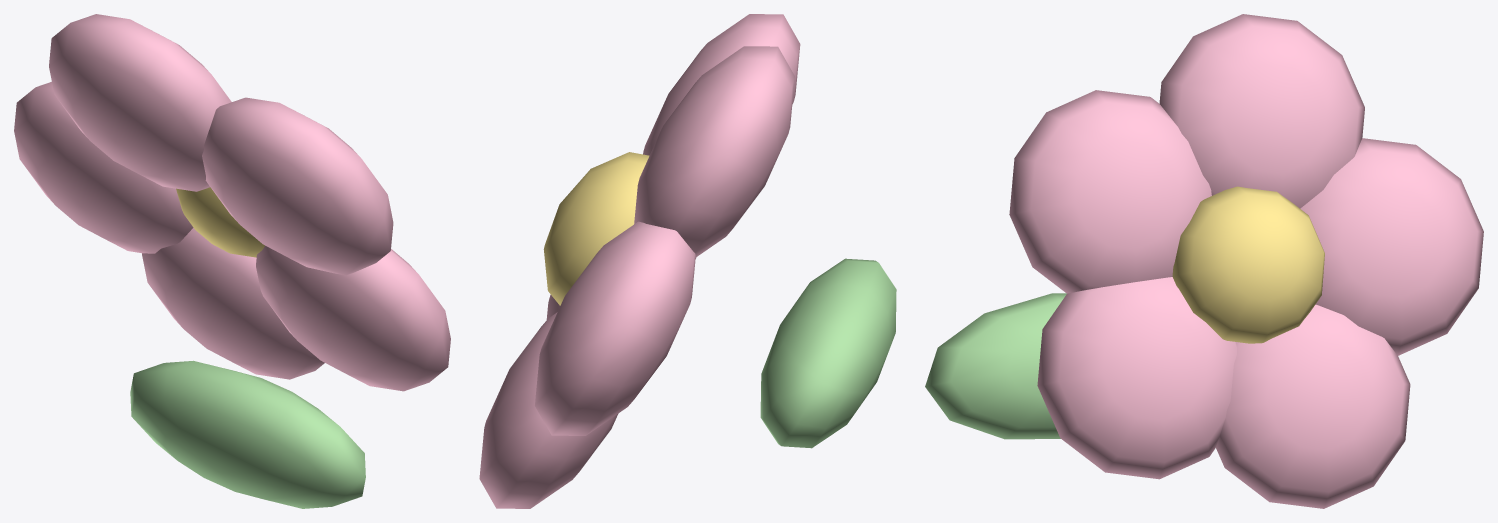
Rendered from flower_clip.glb.
3 views of the same model, side by side, from view 1: azimuth 30°, elevation 25°; view 2: azimuth 150°, elevation 25°; view 3: azimuth 270°, elevation 25° (orthographic). The views are drawn at different scales.
Parts seen in each view (by area): view 1: Head; view 2: Head; view 3: Head.
Boxes of the visible parts, x1,y1,x2,y2 form: Head: (14,14,450,508); Head: (479,14,896,508); Head: (925,14,1483,508).
Size of the model in its own units: 0.0597 by 0.0848 by 0.1079.
